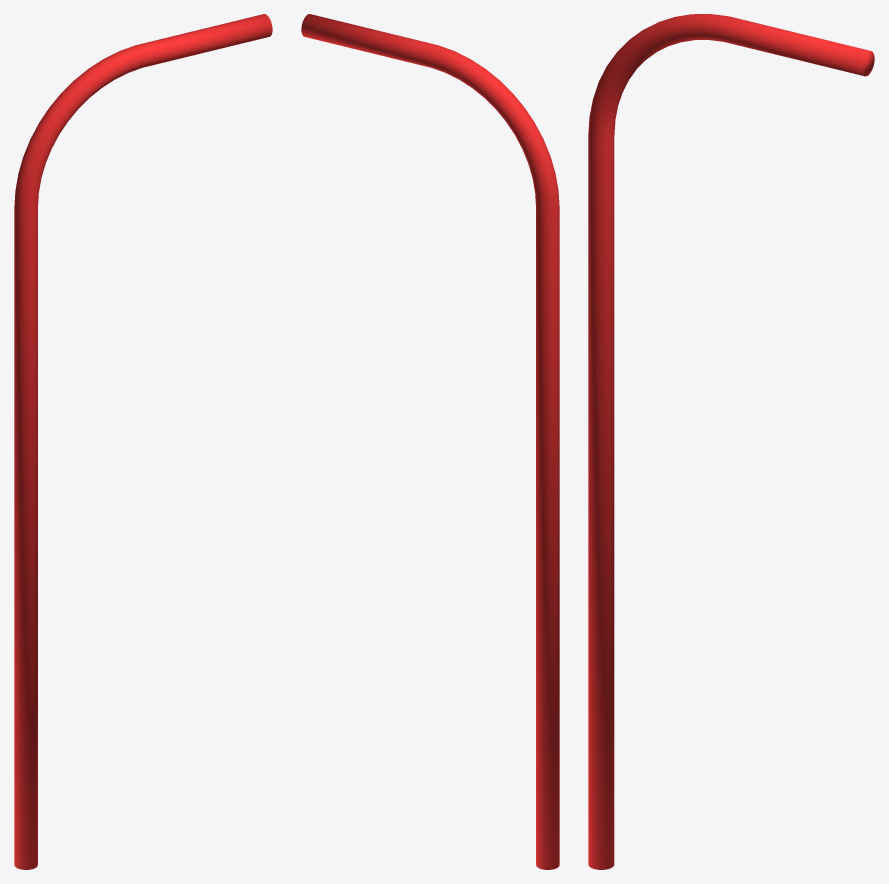
3 renders of one model, left to right at view 1: azimuth 30°, elevation 25°; view 2: azimuth 150°, elevation 25°; view 3: azimuth 330°, elevation 25°, orthographic. The views are drawn at different scales.
Parts seen in each view (by area): view 1: SketchUp; view 2: SketchUp; view 3: SketchUp.
Part boxes in pixels (x1,y1,x2,y2): SketchUp: (14,14,272,869); SketchUp: (301,14,559,869); SketchUp: (588,14,874,869).
Size of the model in its own units: 67.59 by 5.5 by 204.
